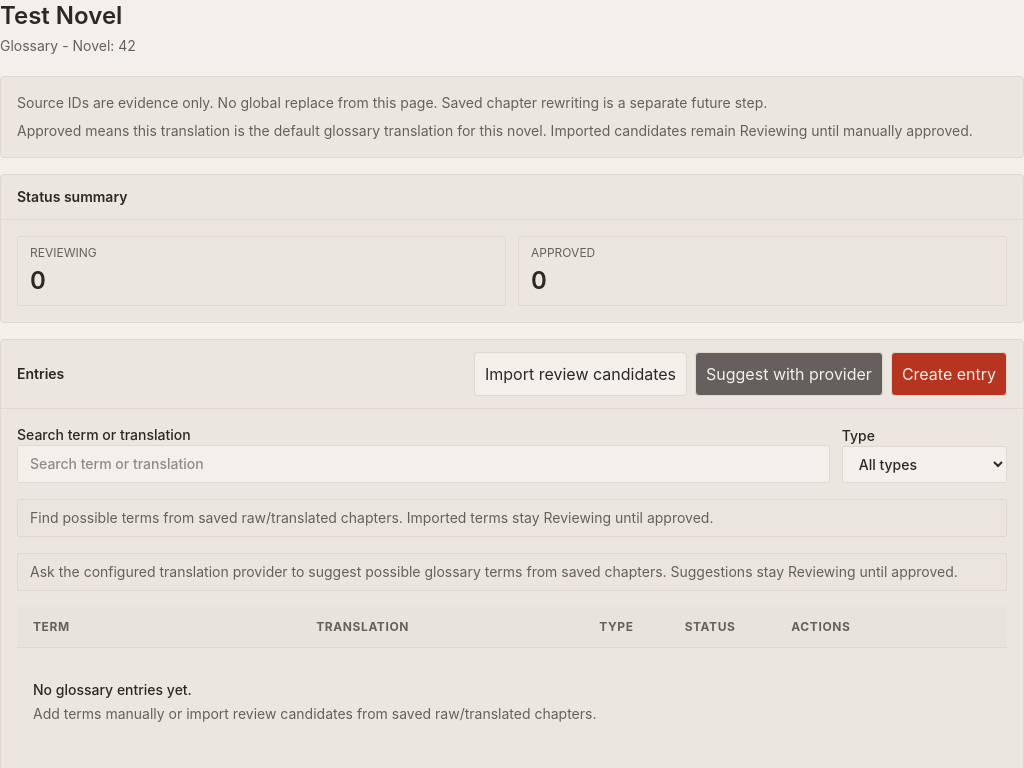
it: AdminGlossaryShell › validates max candidates before preview
Click the button "Import review candidates" at (580, 374), box [474, 352, 687, 396]
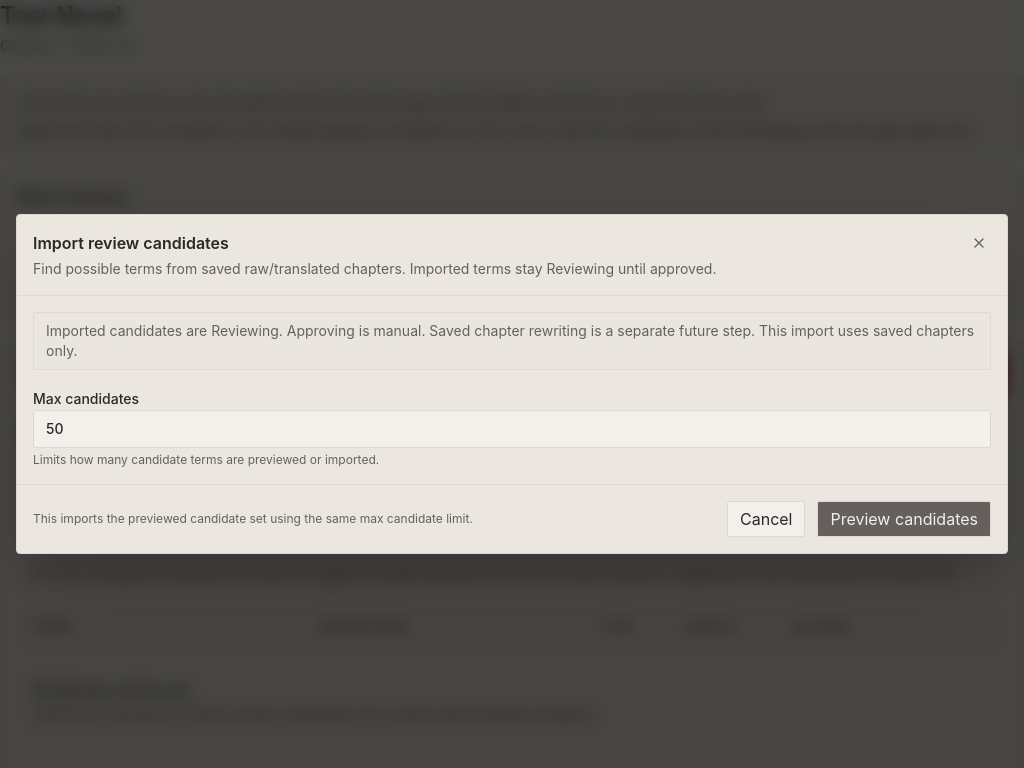
Replace the text in the number field labelled "Max candidates" with "0" at (512, 429), box [33, 410, 991, 448]
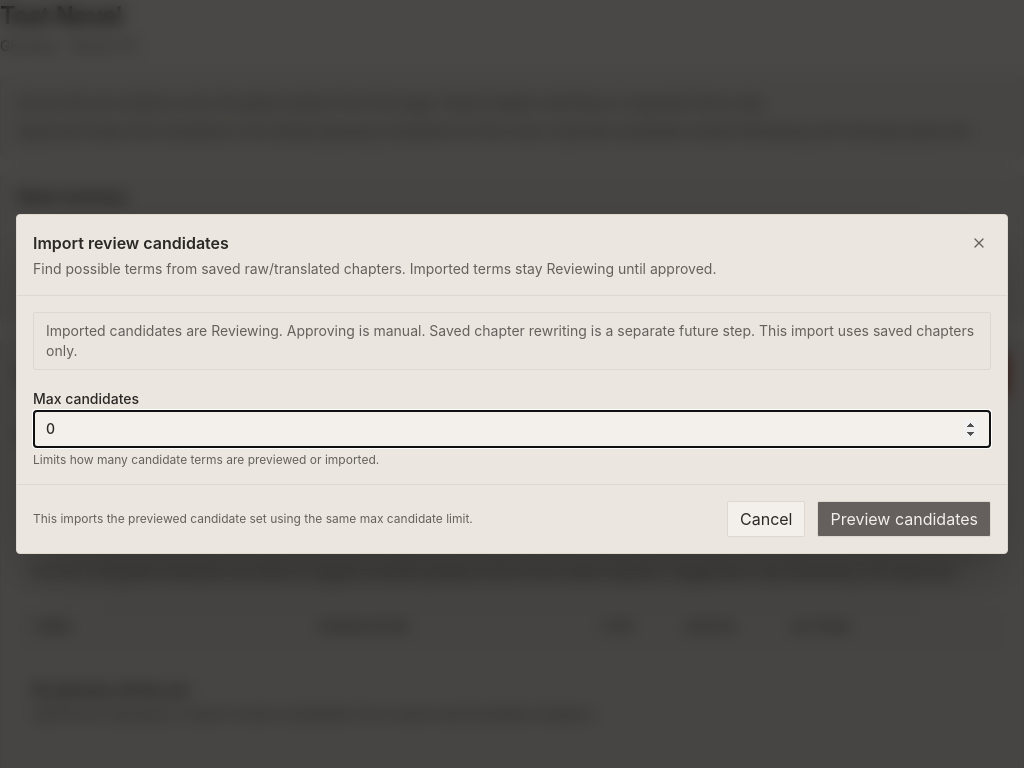
Click the button "Preview candidates" at (904, 519), box [818, 501, 991, 537]
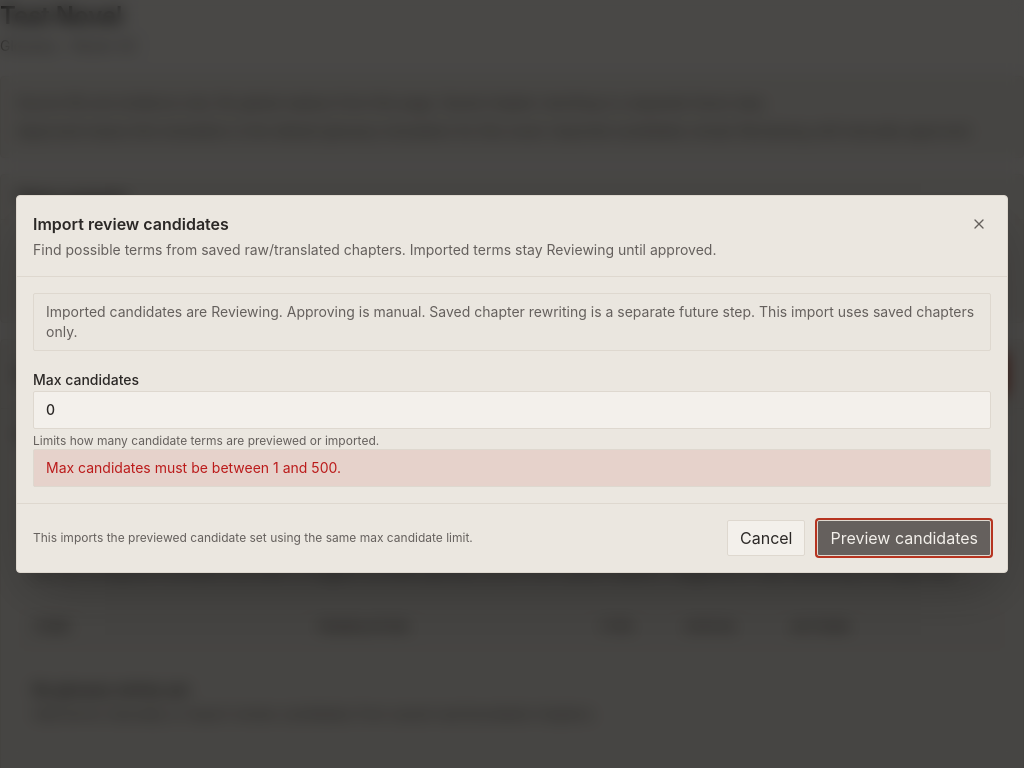
Now the text "Max candidates must be between 1 and 500." is shown, box [33, 449, 991, 487]
